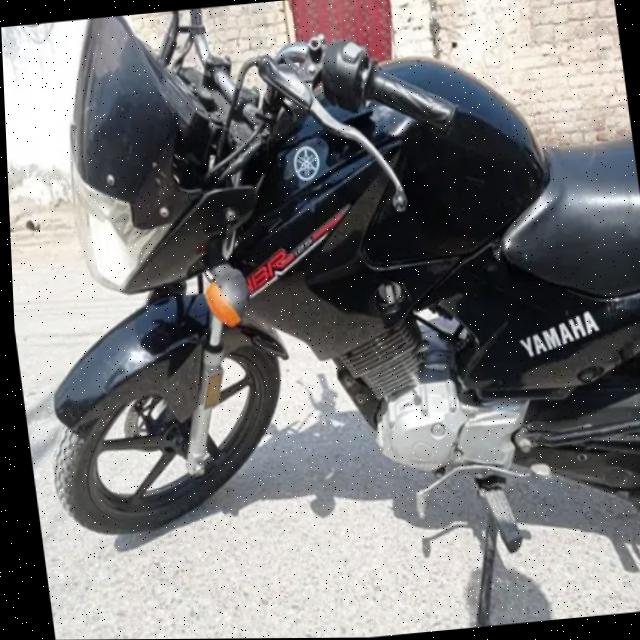Bike: (20, 0, 640, 571)
